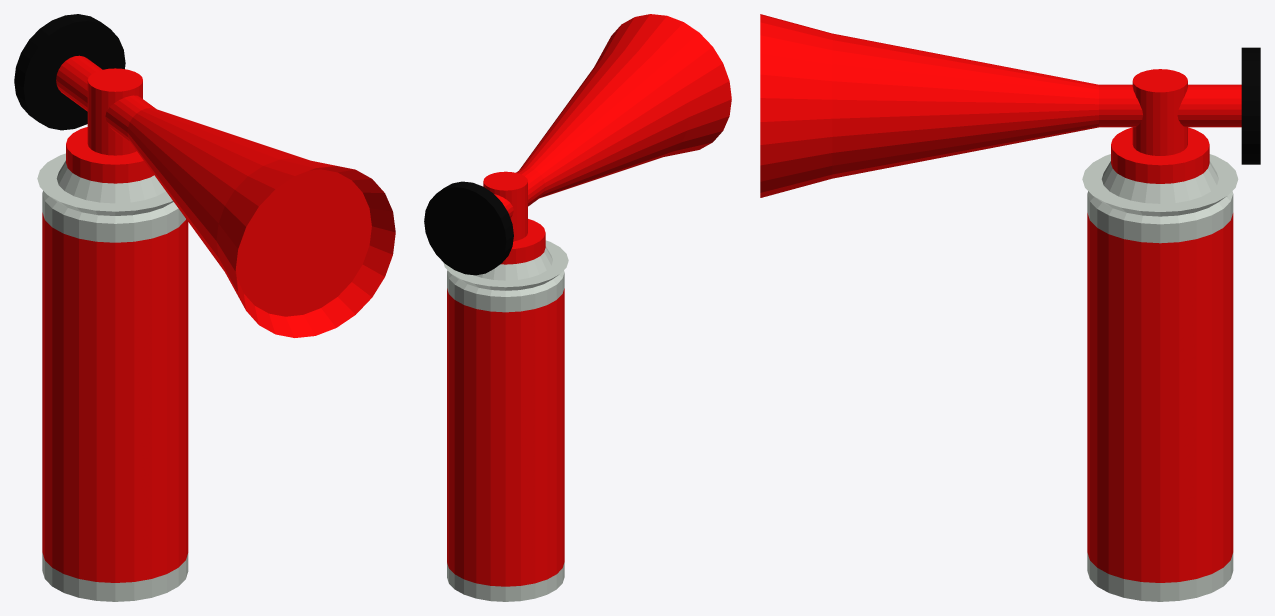
File: AirHorn.fbx
The picture shows the model from 3 angles, left to right: view 1: azimuth 30°, elevation 25°; view 2: azimuth 150°, elevation 25°; view 3: azimuth 270°, elevation 25°; orthographic projection. The views are drawn at different scales.
Parts seen in each view (by area): view 1: AirHorn; view 2: AirHorn; view 3: AirHorn.
Boxes of the visible parts, x1,y1,x2,y2 form: AirHorn: [14, 14, 395, 601]; AirHorn: [424, 14, 731, 601]; AirHorn: [760, 14, 1260, 601].
Bounding box in the file's own units: 8.88 × 29.07 × 24.02.
